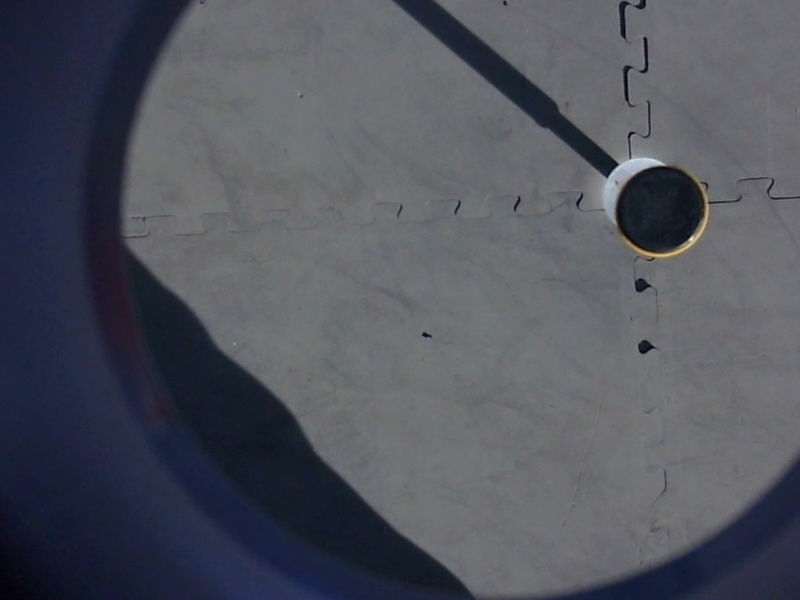tip: (610, 158, 716, 264)
